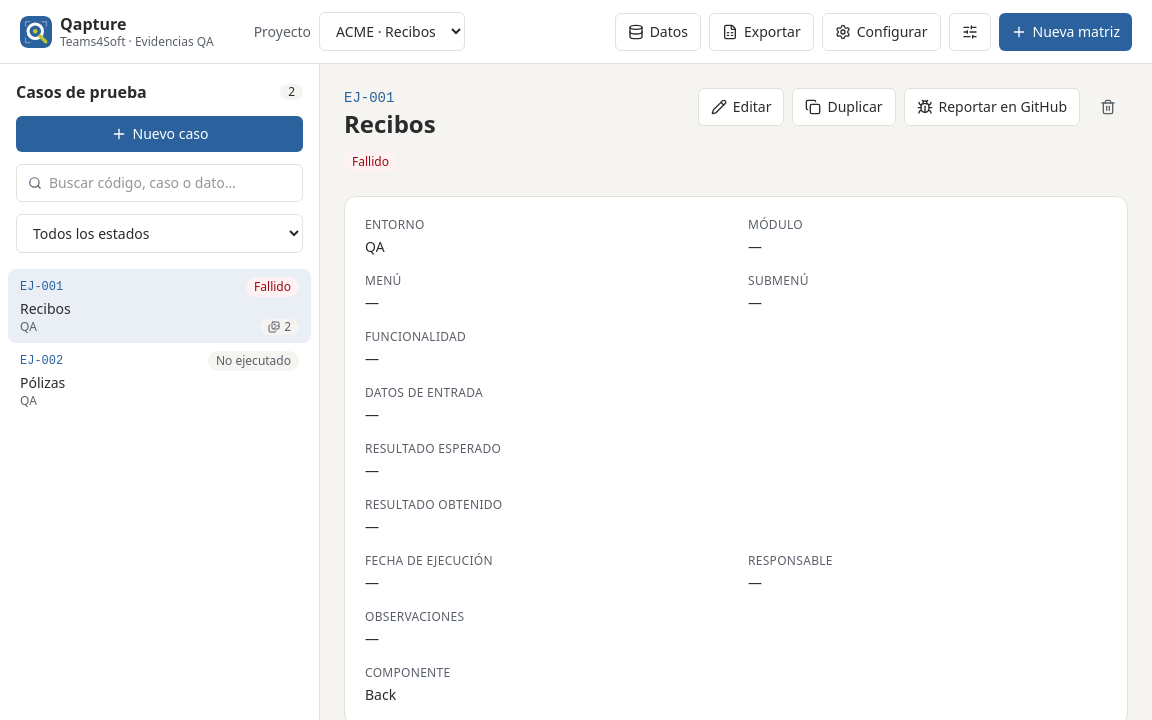
Test case: reportar en GitHub › sin repos muestra «Este proyecto no tiene repositorios vinculados.»
Click the text "Recibos". click: (45,308)
box: [20,299,71,318]
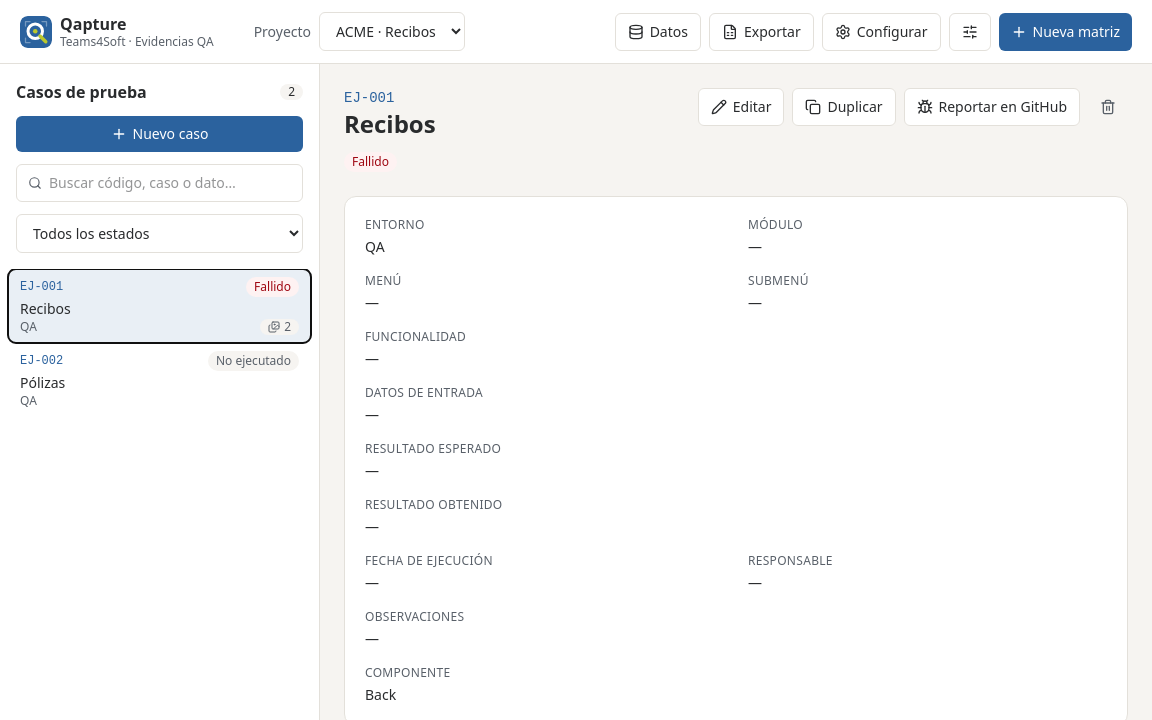
Click the button "Reportar en GitHub". click: (992,107)
box: [904,88,1080,126]
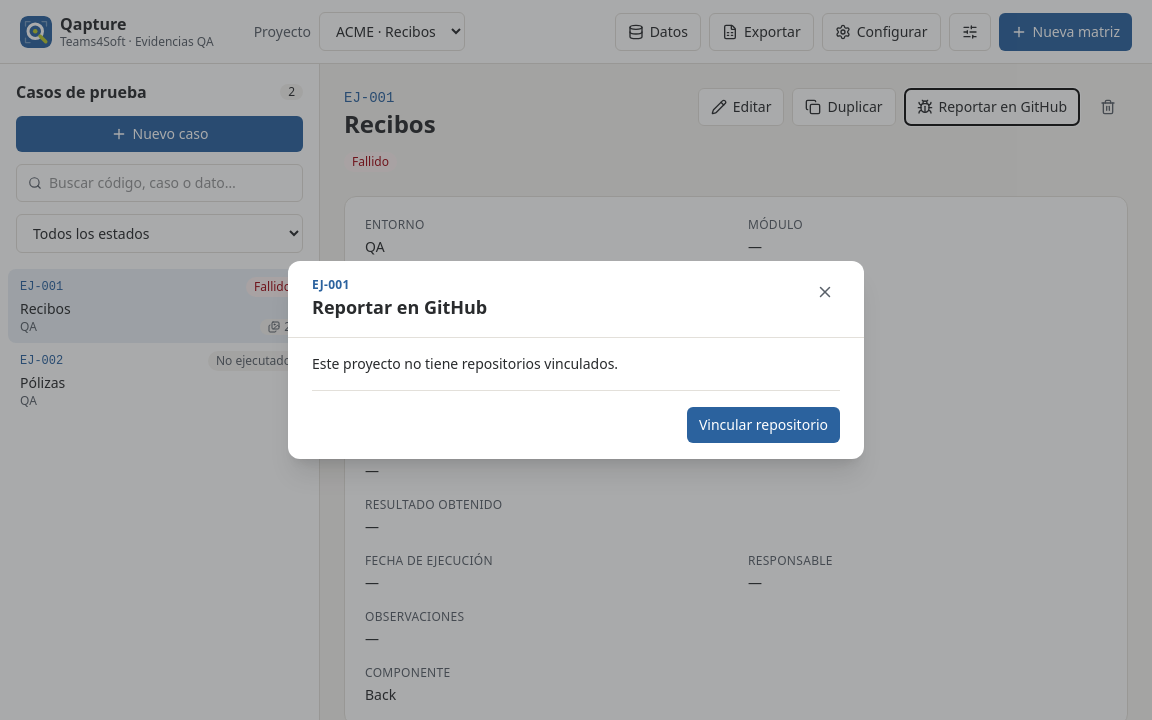
Result: the text "Este proyecto no tiene repositorios vinculados." is shown at [312,354,618,373]
Click the button "Vincular repositorio". click: (763,425)
box: [687,407,840,443]
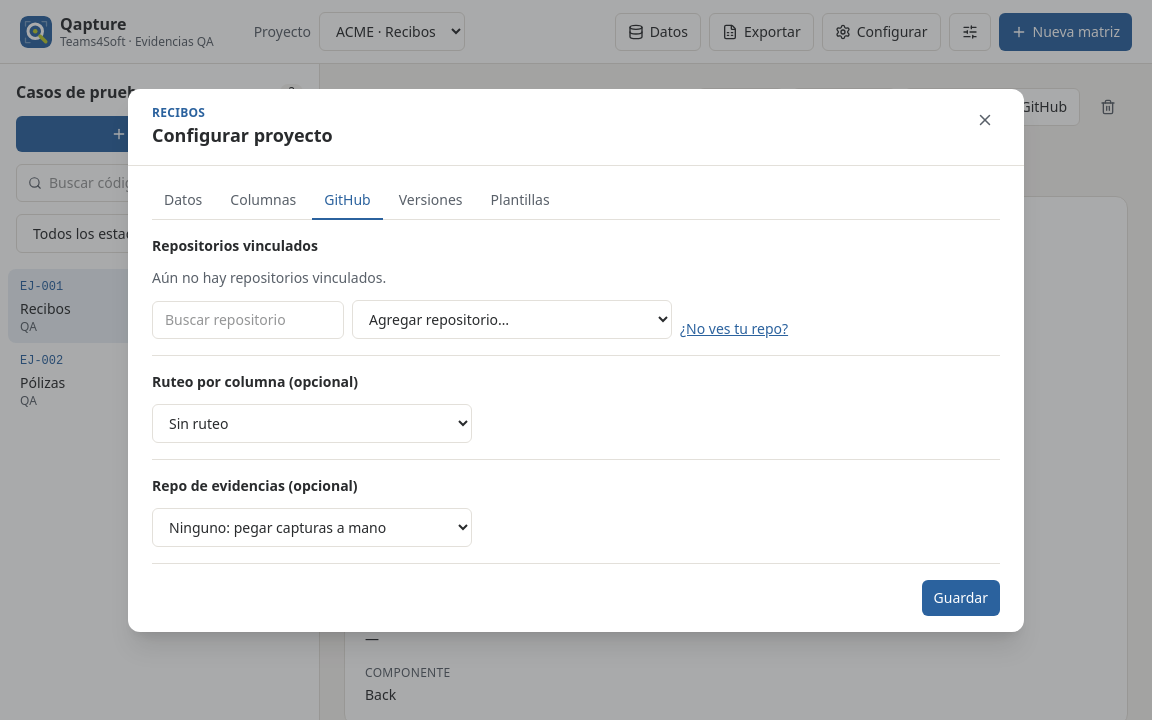
Result: the dialog "Configurar proyecto" is shown at [128,88,1024,632]
